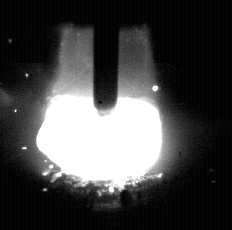arame: (93, 0, 119, 116)
poca: (34, 0, 163, 230)
